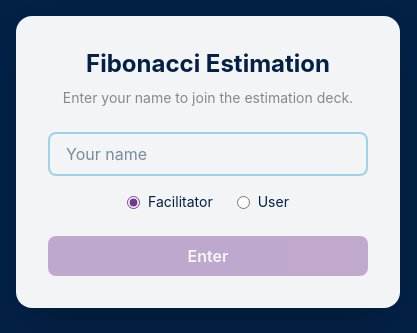
Test: LandingPage › disables the button until a name is entered
Expected: the button "Enter" is disabled, [48,236,368,276]
Type "Ada" into the field labelled "Your name" at (208, 154), box [48,132,368,176]
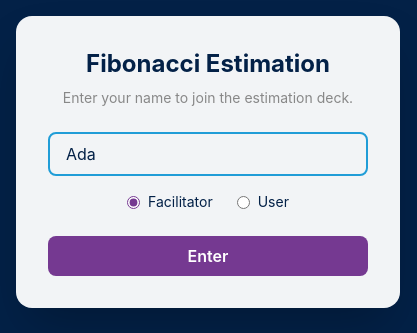
Result: the button "Enter" is enabled at [48,236,368,276]
